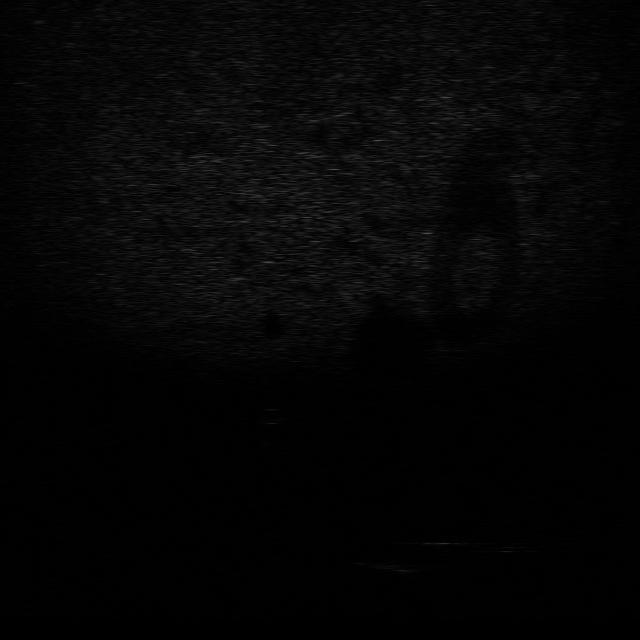ball: (254, 406, 290, 426)
metal bucket: (352, 556, 440, 581)
tyre: (446, 536, 549, 556)
